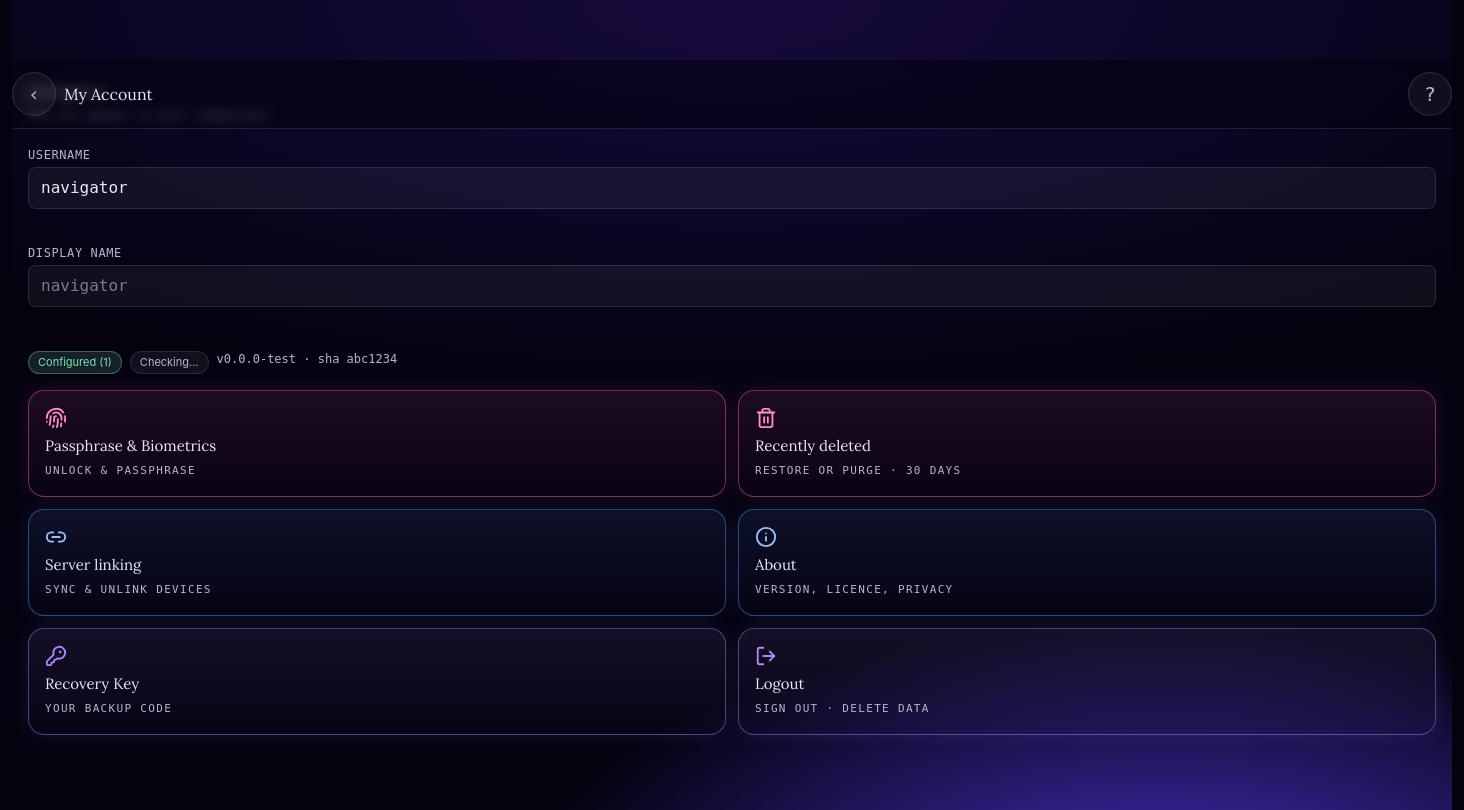
Test: AccountPage — username rename across the server link (Defect B) › unknown link state: refuses the rename until it resolves (Larissa LOW-2)
The image size is (1464, 810).
Replace the text in the field labelled "Username" with "navigator2" at (732, 188), box [28,167,1436,209]
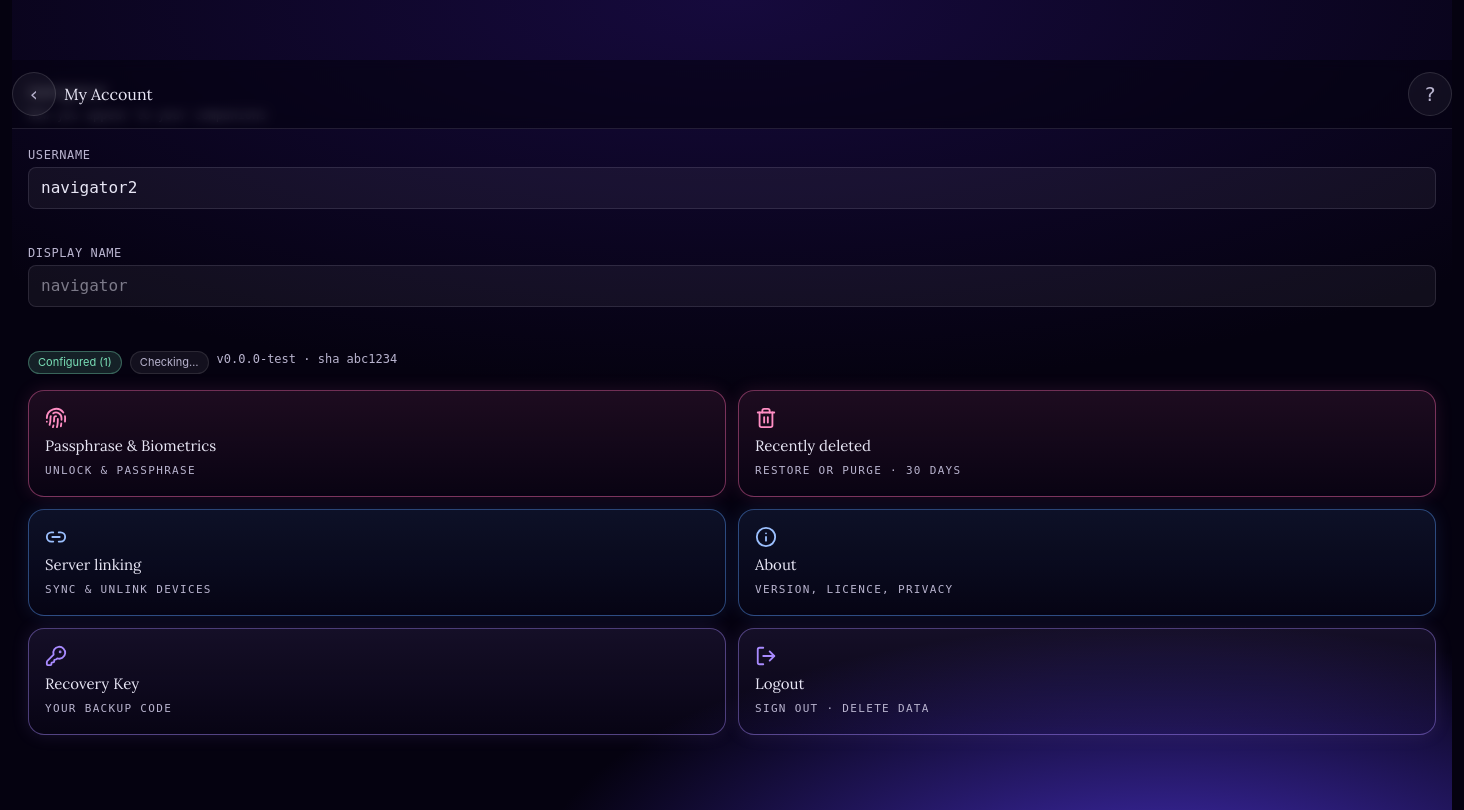
Leave the field labelled "Username", box [28,167,1436,209]
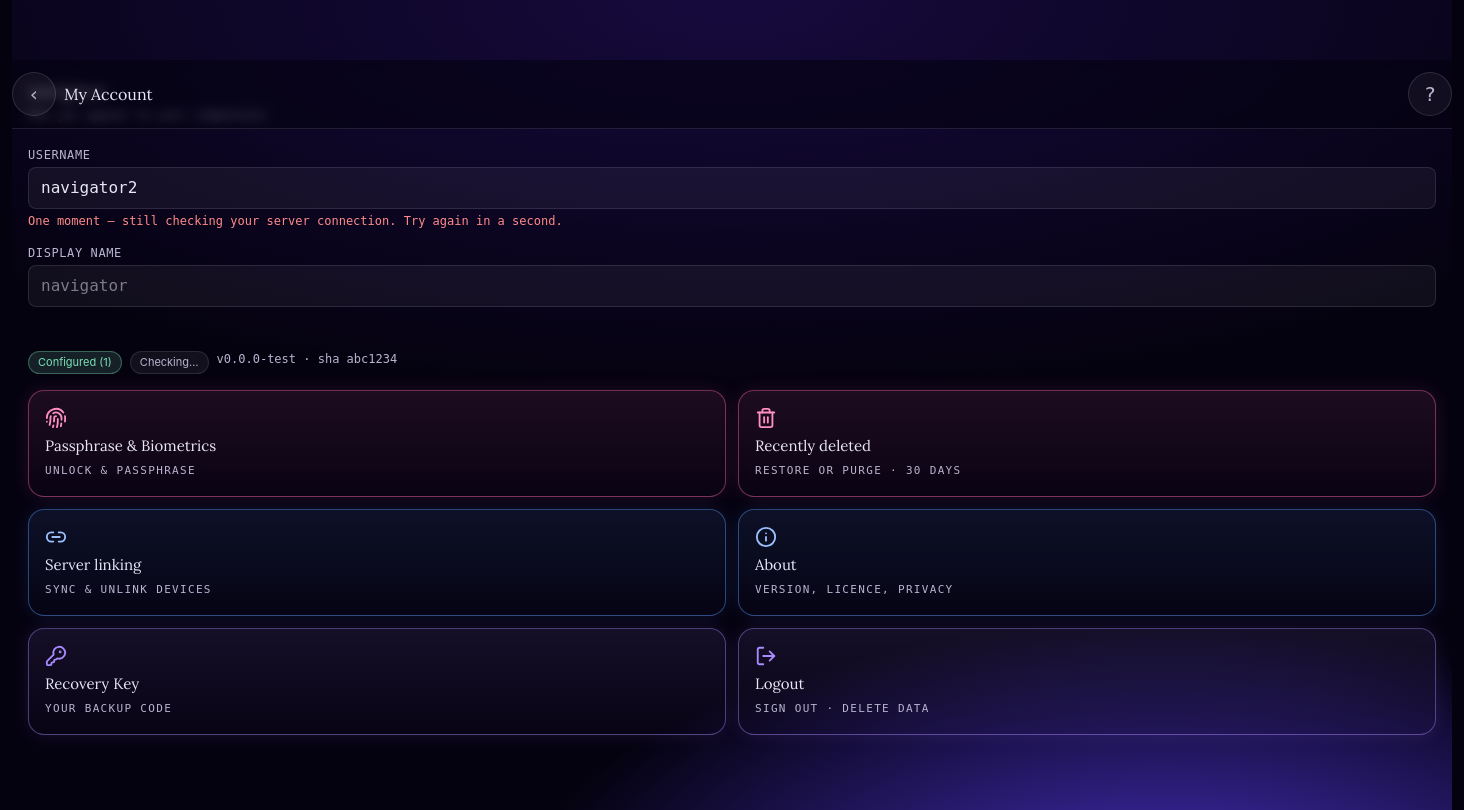
Check: the text "One moment — still checking your server connection. Try again in a second." is shown, box [28,214,563,228]
